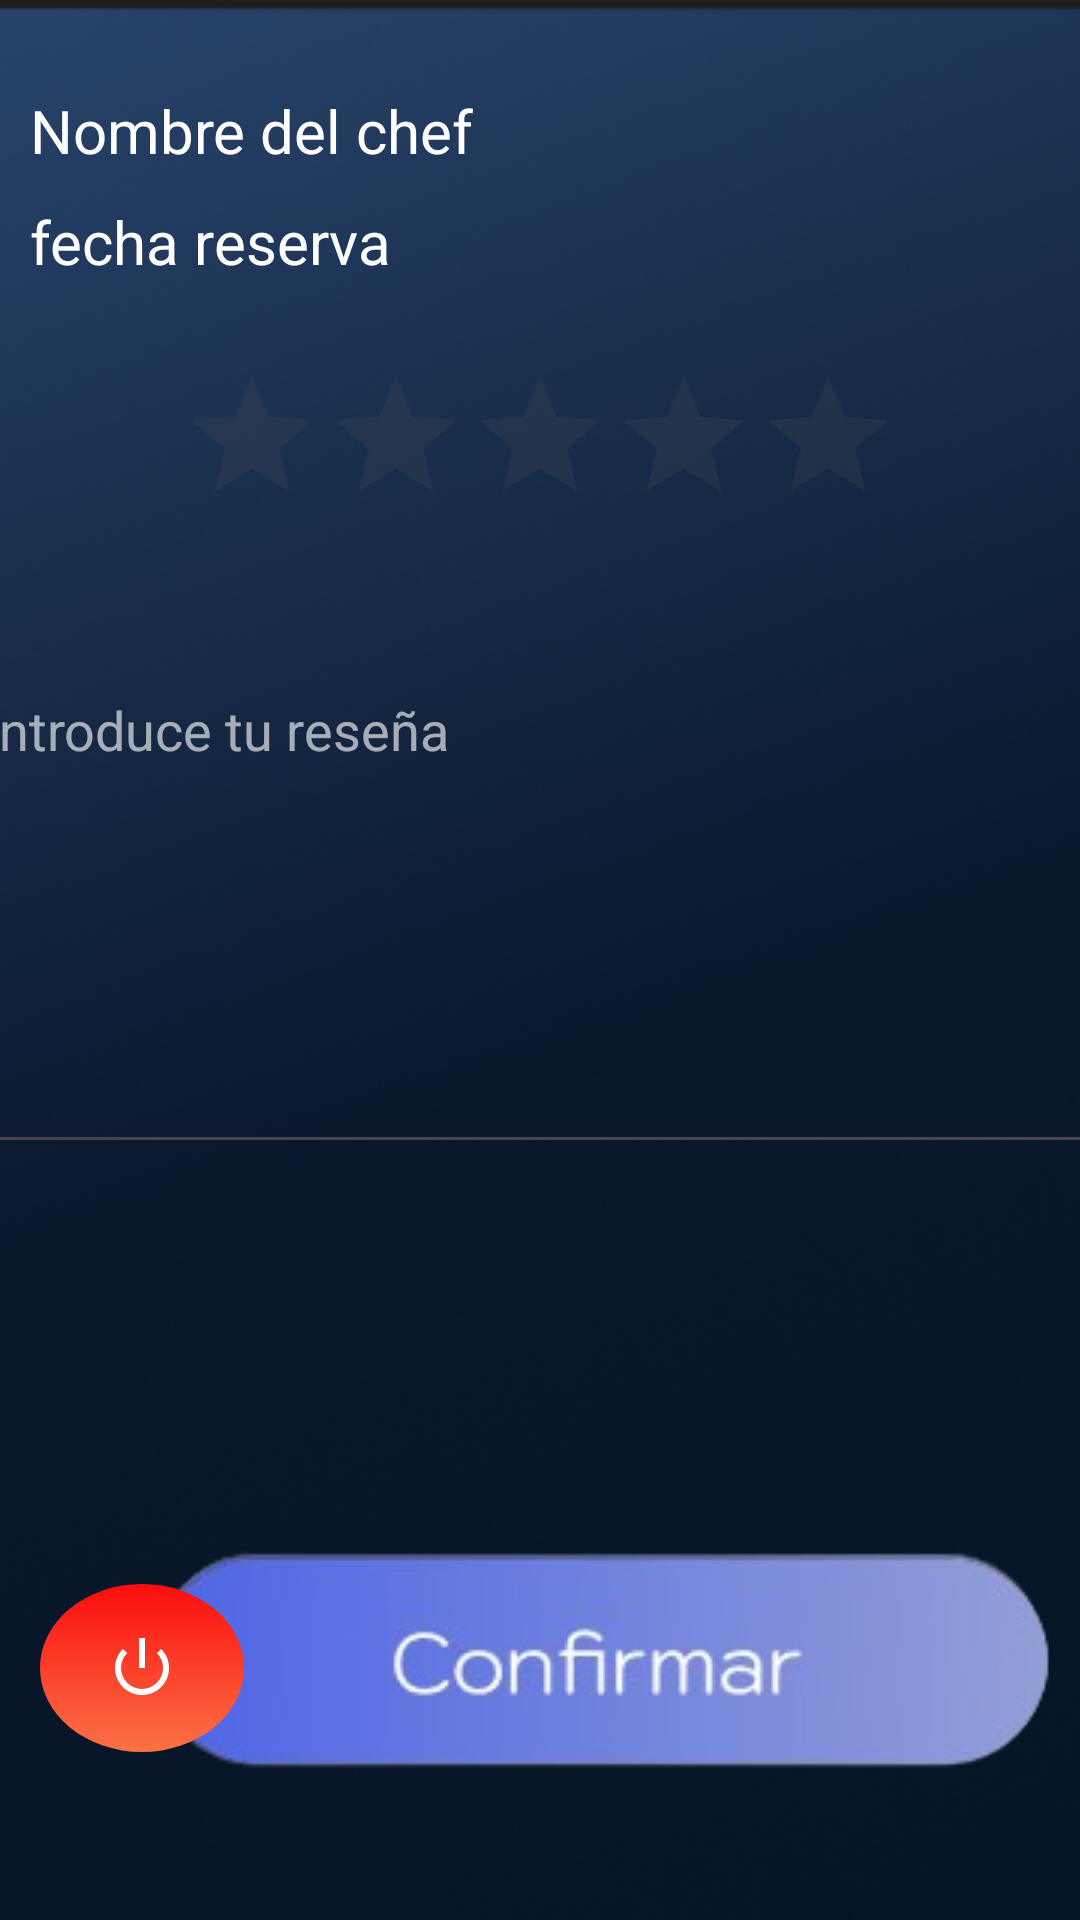

Icons on this 1080px x 1920px Android screen, each with the point to tap as (x=x, y=y):
lock power off: (x=142, y=1668)
